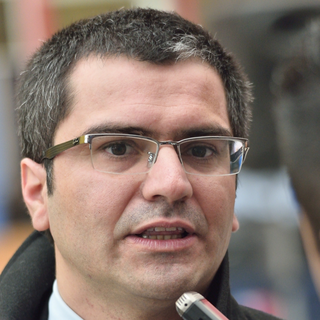eye: (94, 135, 145, 162), (178, 142, 223, 163)
